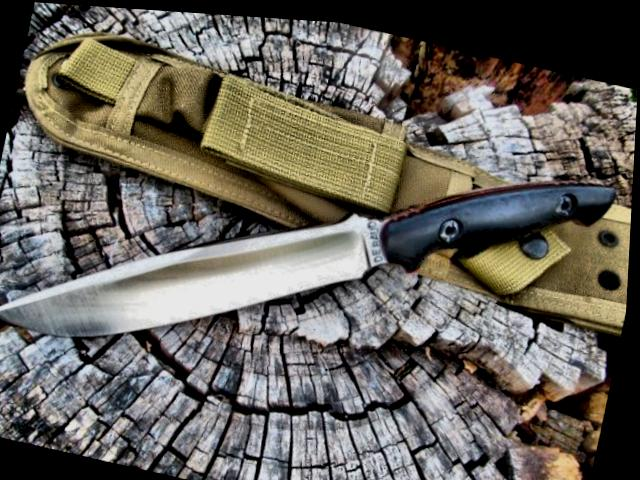knife: (0, 120, 420, 410)
